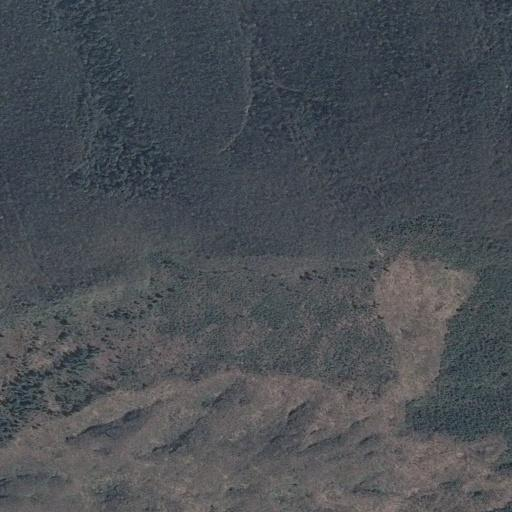landslide: (373, 248, 481, 407)
